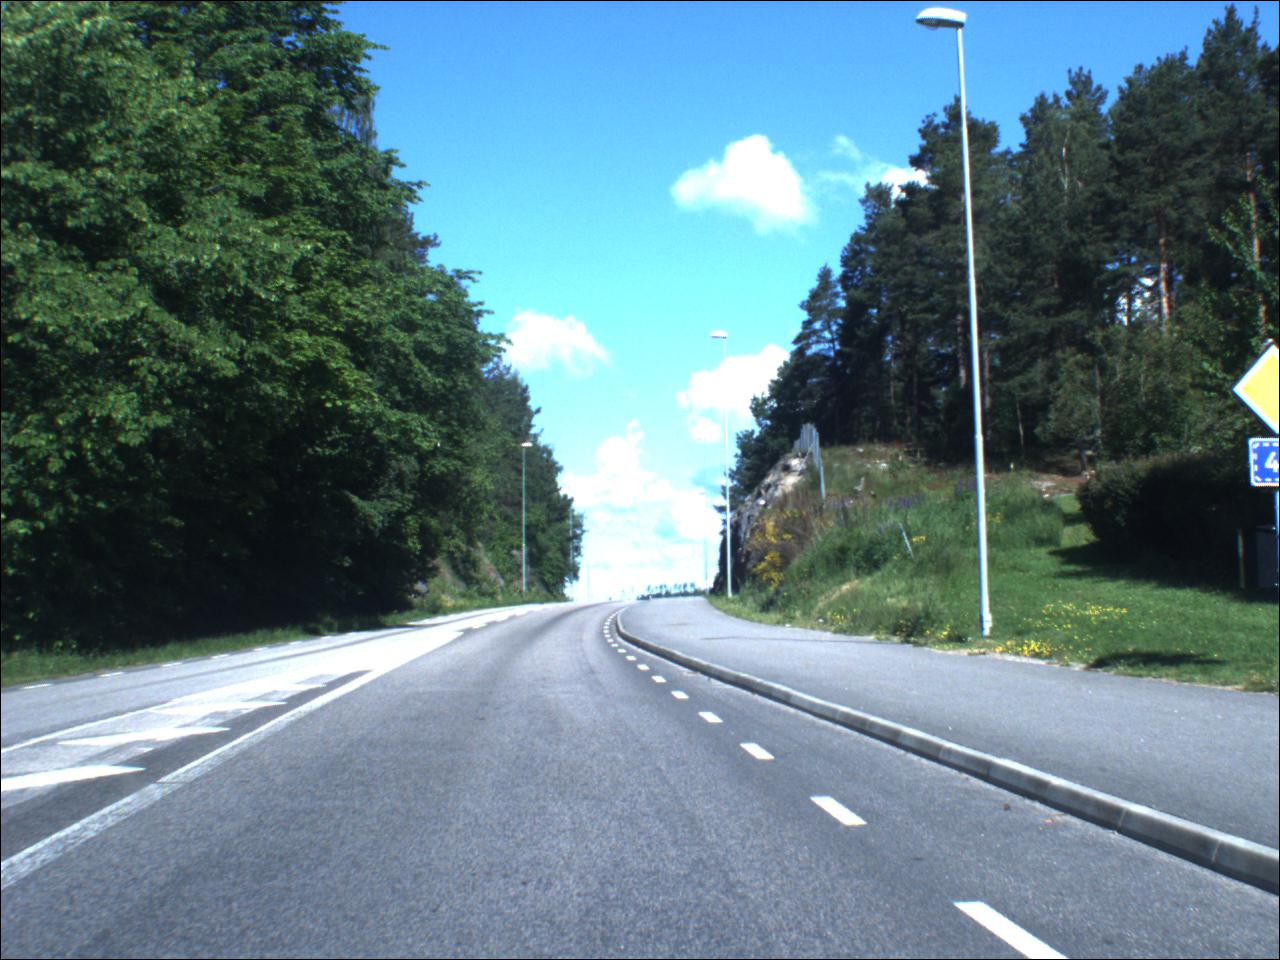PRIORITY_ROAD: (1227, 345, 1280, 442)
